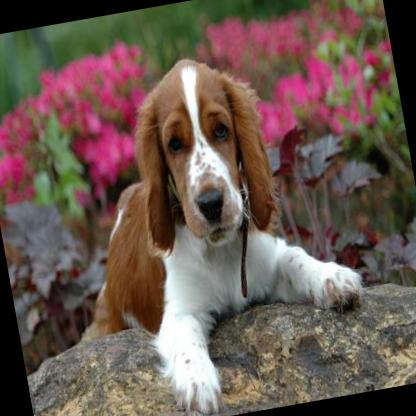Welsh_springer_spaniel: (36, 34, 376, 416)
